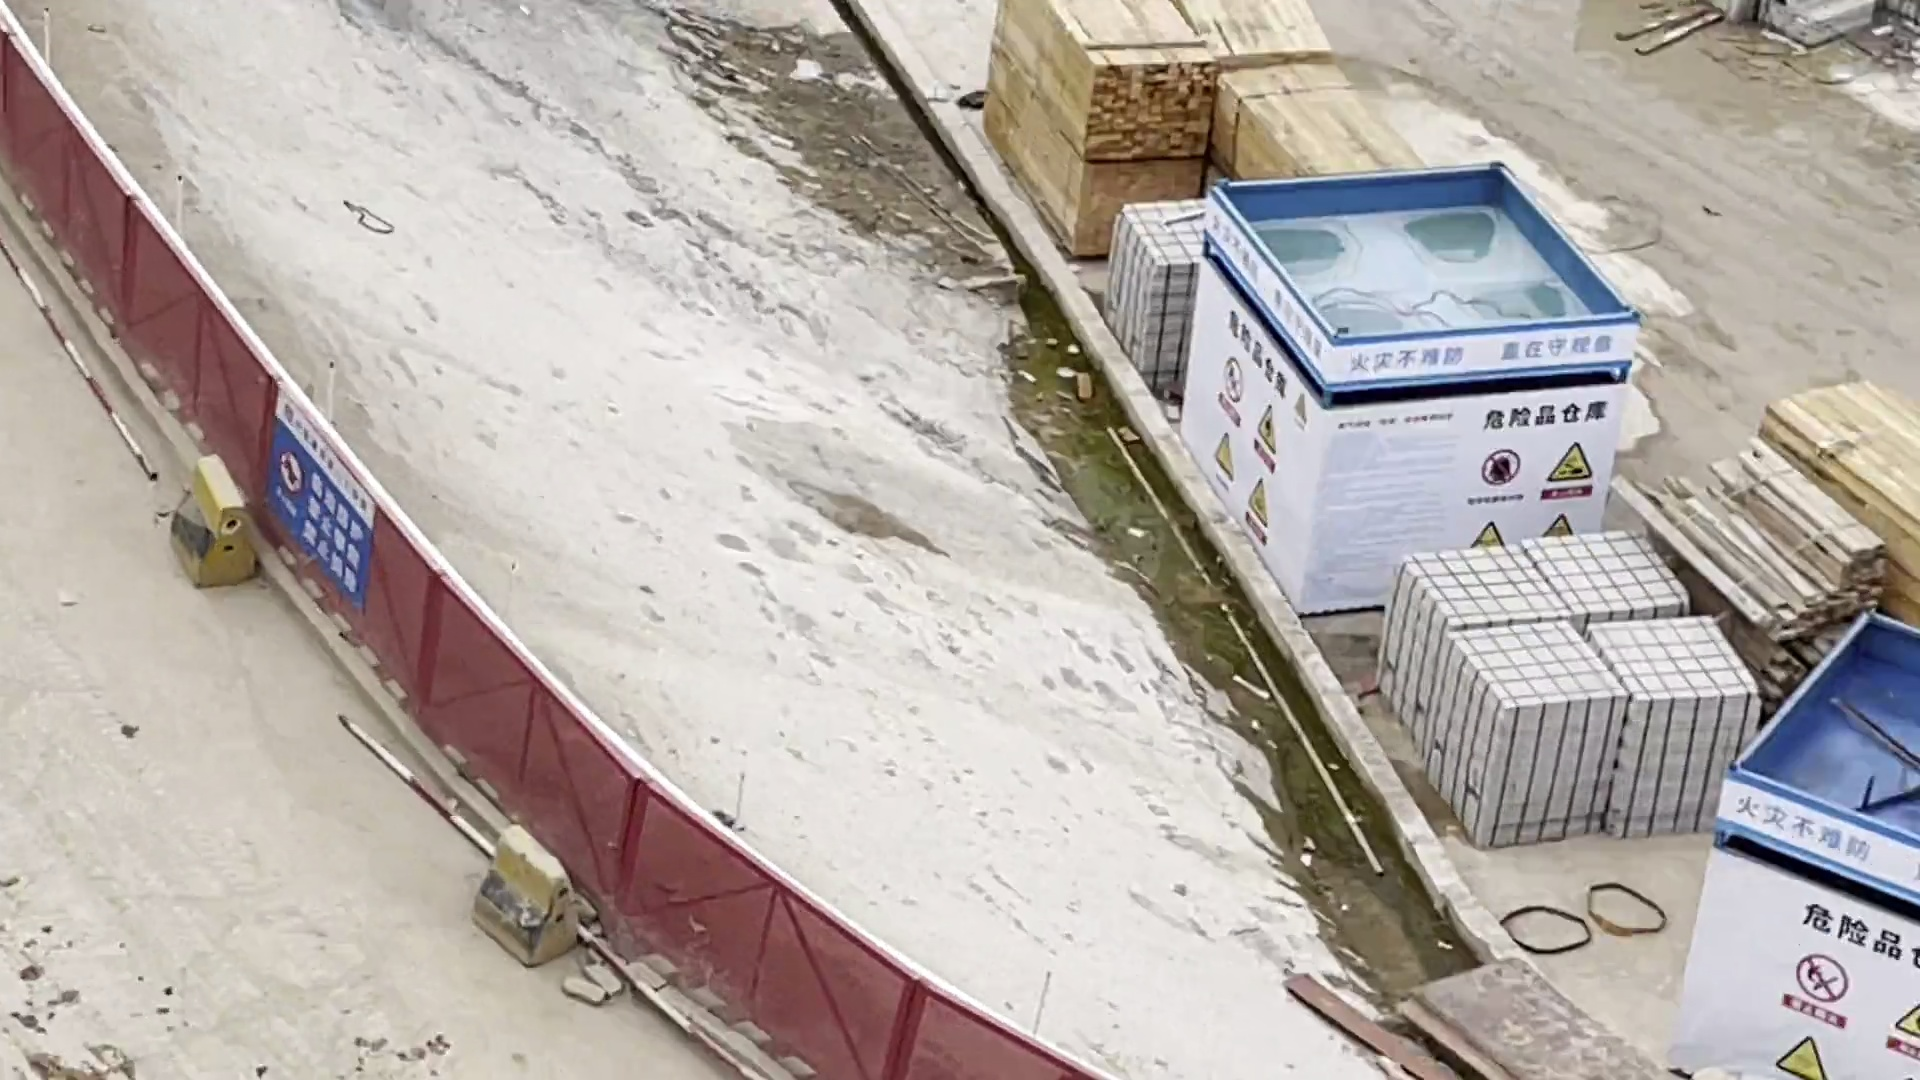brick: (1371, 508, 1771, 861), (1104, 189, 1207, 396), (1716, 1, 1892, 61)
fence: (3, 3, 469, 761), (450, 596, 1116, 1080)
slogan: (1299, 315, 1626, 626), (1652, 767, 1920, 1080), (1168, 174, 1331, 637), (231, 378, 400, 615)
wood: (1636, 323, 1920, 702), (985, 1, 1476, 218)
